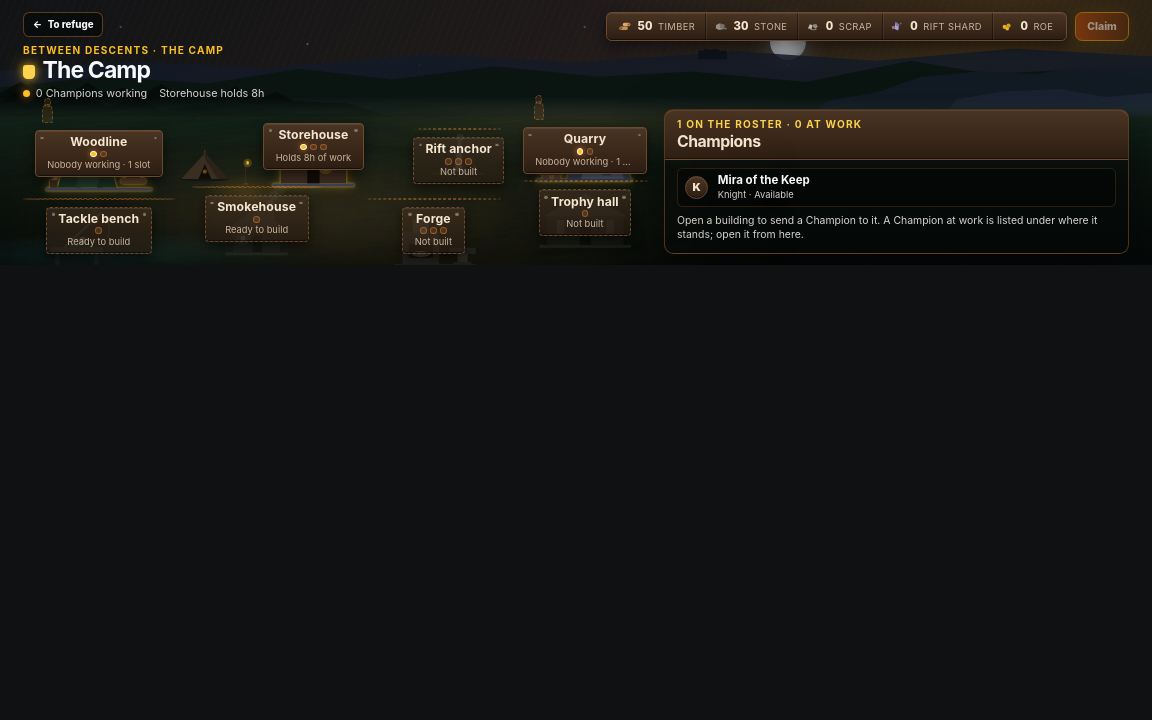
Test: CampScreen › prices the next level against the bag and buys it when the bag can pay
This screenshot has width=1152, height=720.
Click the button "Storehouse Holds 8h of work": (314, 139) [231,109,396,170]
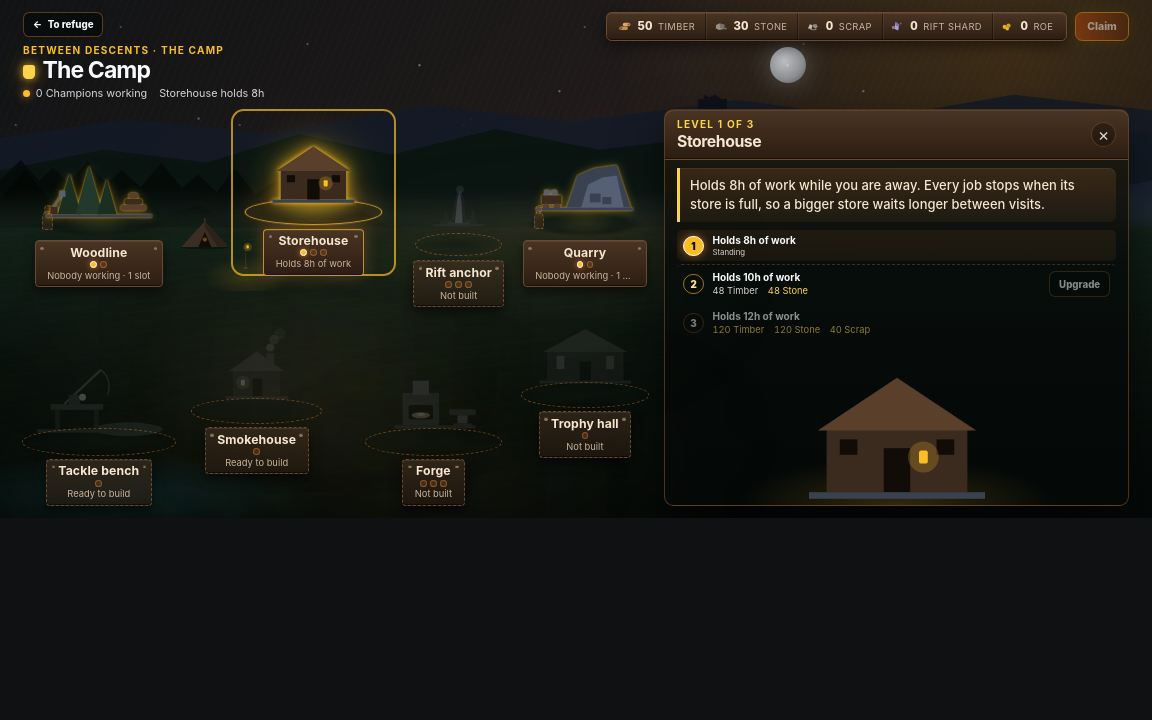
Expected: the heading "Storehouse" is shown, [677,132,761,151]
Expected: the button with aria-label "Upgrade the storehouse" is disabled, [1049,271,1110,297]
Click the button "Tackle bench Ready to build": (99, 419) [23,331,174,506]
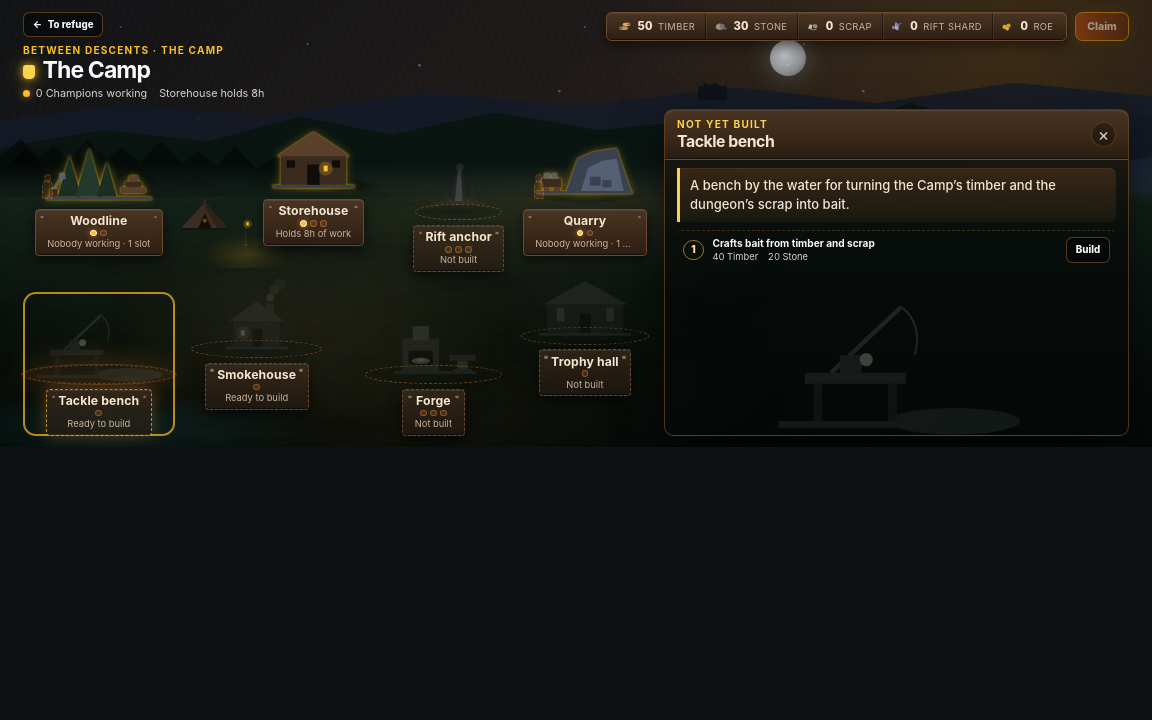
Expected: the heading "Tackle bench" is shown, [677,132,774,151]
Expected: the button with aria-label "Build the tackle bench" is enabled
Click the button with aria-label "Build the tackle bench": (1088, 250) [1066,237,1110,263]
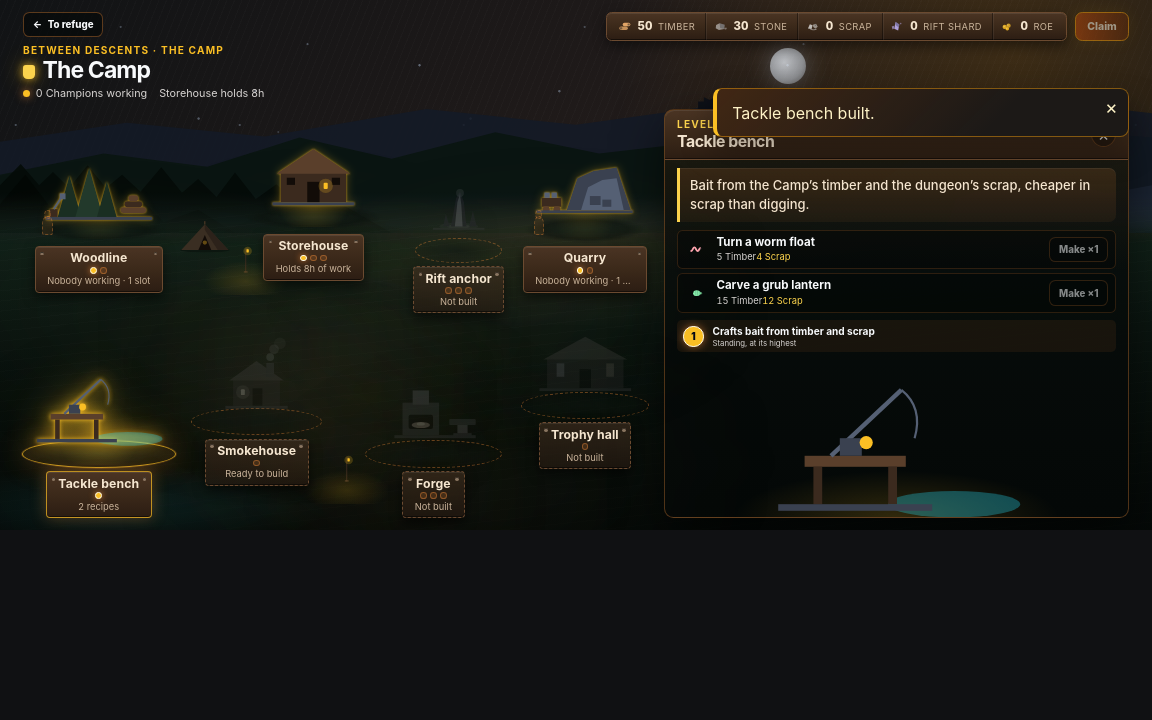
Expected: the text "Tackle bench built." is shown, [732,103,875,123]
Expected: the button with aria-label "Turn a worm float" is shown, [1049,236,1108,262]
